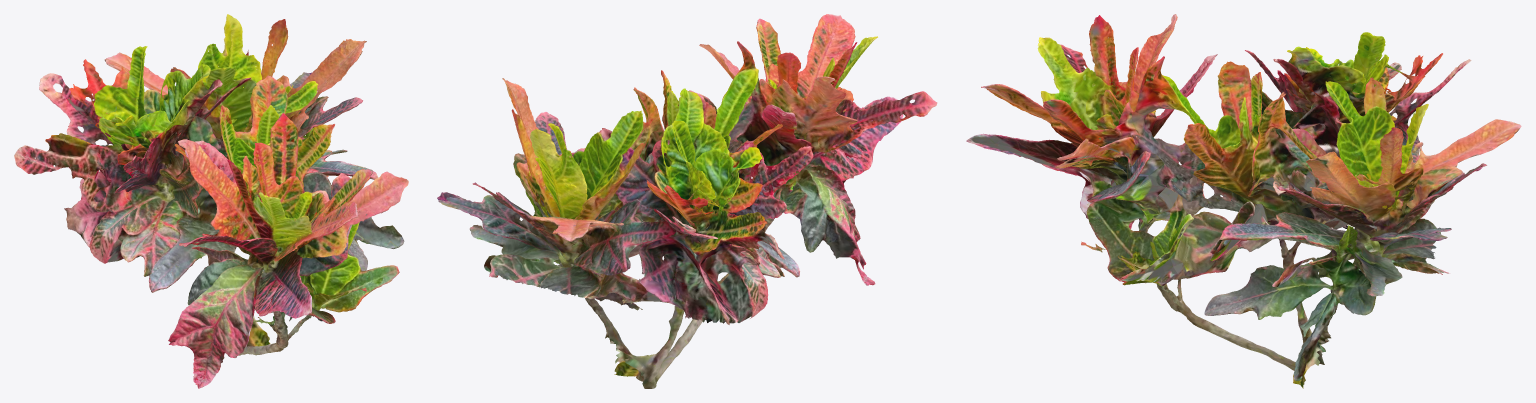
File: codiaeum_variegatum.glb
3 renders of one model, left to right at view 1: azimuth 30°, elevation 25°; view 2: azimuth 150°, elevation 25°; view 3: azimuth 270°, elevation 25°, orthographic. The views are drawn at different scales.
Visible parts, largest first — view 1: Object_2; view 2: Object_2; view 3: Object_2.
Boxes of the visible parts, x1,y1,x2,y2 form: Object_2: [14, 14, 408, 388]; Object_2: [437, 14, 937, 388]; Object_2: [966, 14, 1521, 388].
Bounding box in the file's own units: 0.4851 × 0.4045 × 0.6563.
1 material, 1 textured.
